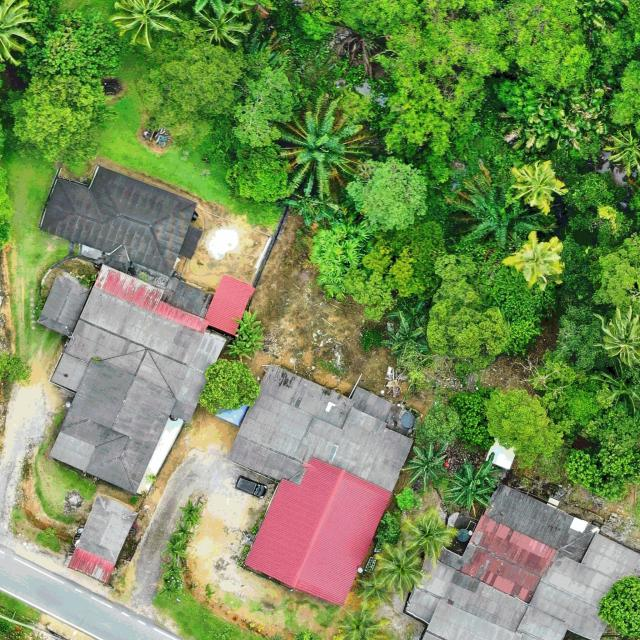Tree: (426, 247, 551, 373), (136, 19, 242, 133), (12, 69, 111, 174), (274, 102, 376, 199), (444, 163, 556, 249), (309, 219, 399, 324), (15, 6, 124, 83), (362, 220, 446, 302), (343, 153, 429, 232), (485, 388, 565, 469), (225, 144, 290, 205), (110, 0, 186, 52), (400, 506, 460, 567), (444, 452, 500, 514), (198, 357, 261, 412), (374, 542, 430, 600), (510, 160, 568, 215), (593, 306, 640, 367), (192, 1, 250, 50), (597, 574, 640, 638), (592, 360, 640, 416), (401, 440, 451, 492), (331, 600, 393, 640), (380, 314, 427, 364), (605, 125, 640, 176), (354, 573, 394, 606), (386, 300, 427, 332), (230, 308, 262, 336), (238, 326, 267, 356), (223, 339, 253, 360)
